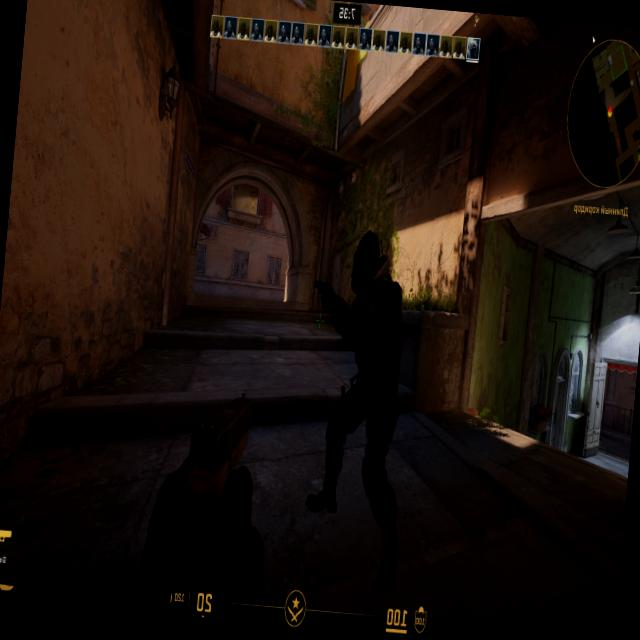CT: (332, 242, 397, 436)
CT_heat: (360, 245, 379, 284)
